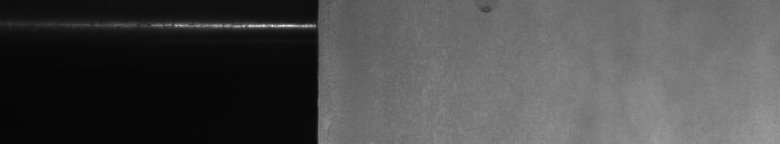fi: (475, 5, 496, 20)
